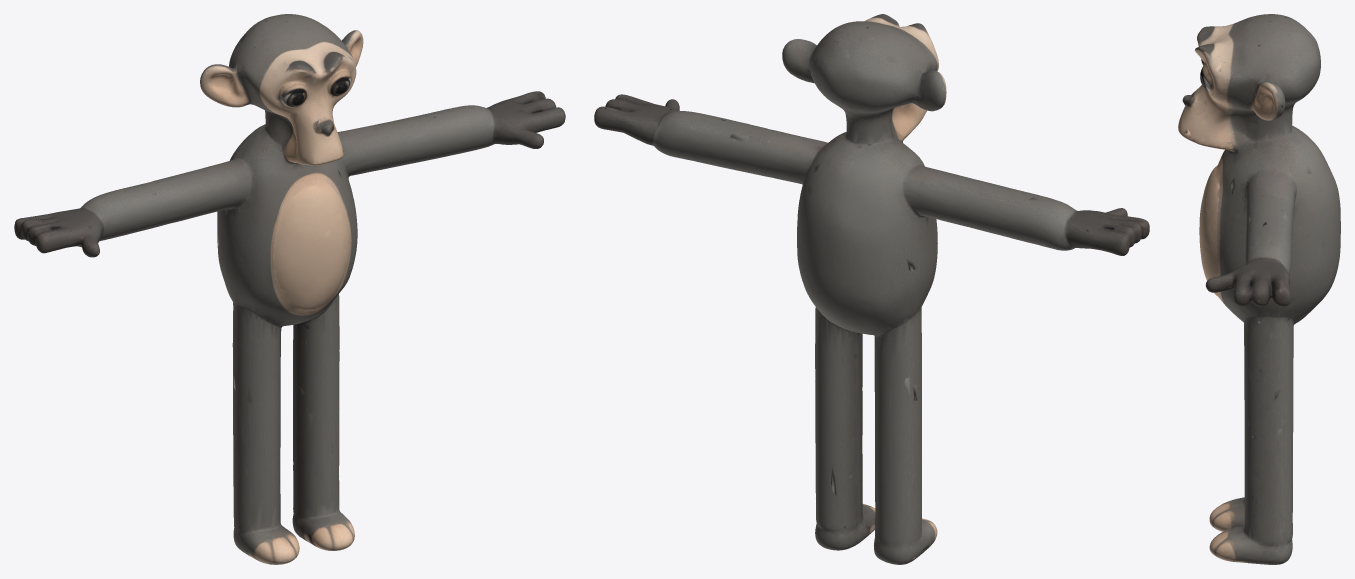
File: suzanne-tpose.glb
The picture shows the model from 3 angles, left to right: view 1: azimuth 30°, elevation 25°; view 2: azimuth 150°, elevation 25°; view 3: azimuth 270°, elevation 25°; orthographic projection.
Bounding box in the file's own units: 2 × 1.89 × 0.5307.
1 material, 1 textured.
